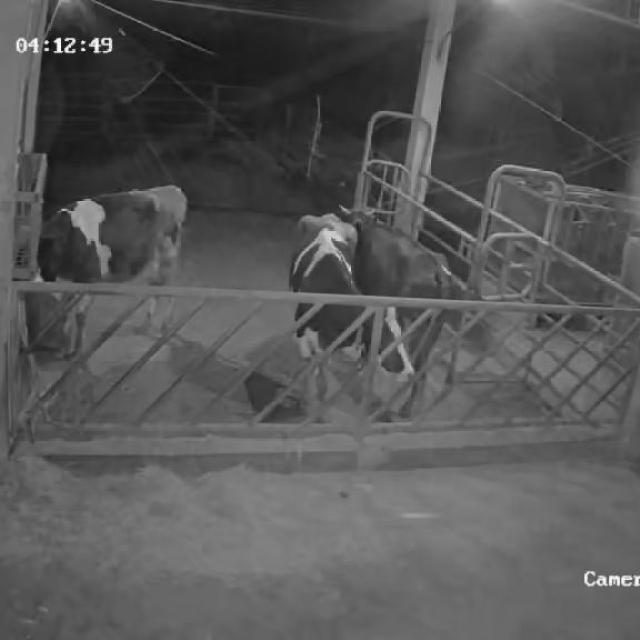drinking: (19, 182, 189, 359)
standing: (336, 195, 456, 421), (287, 205, 417, 413)
